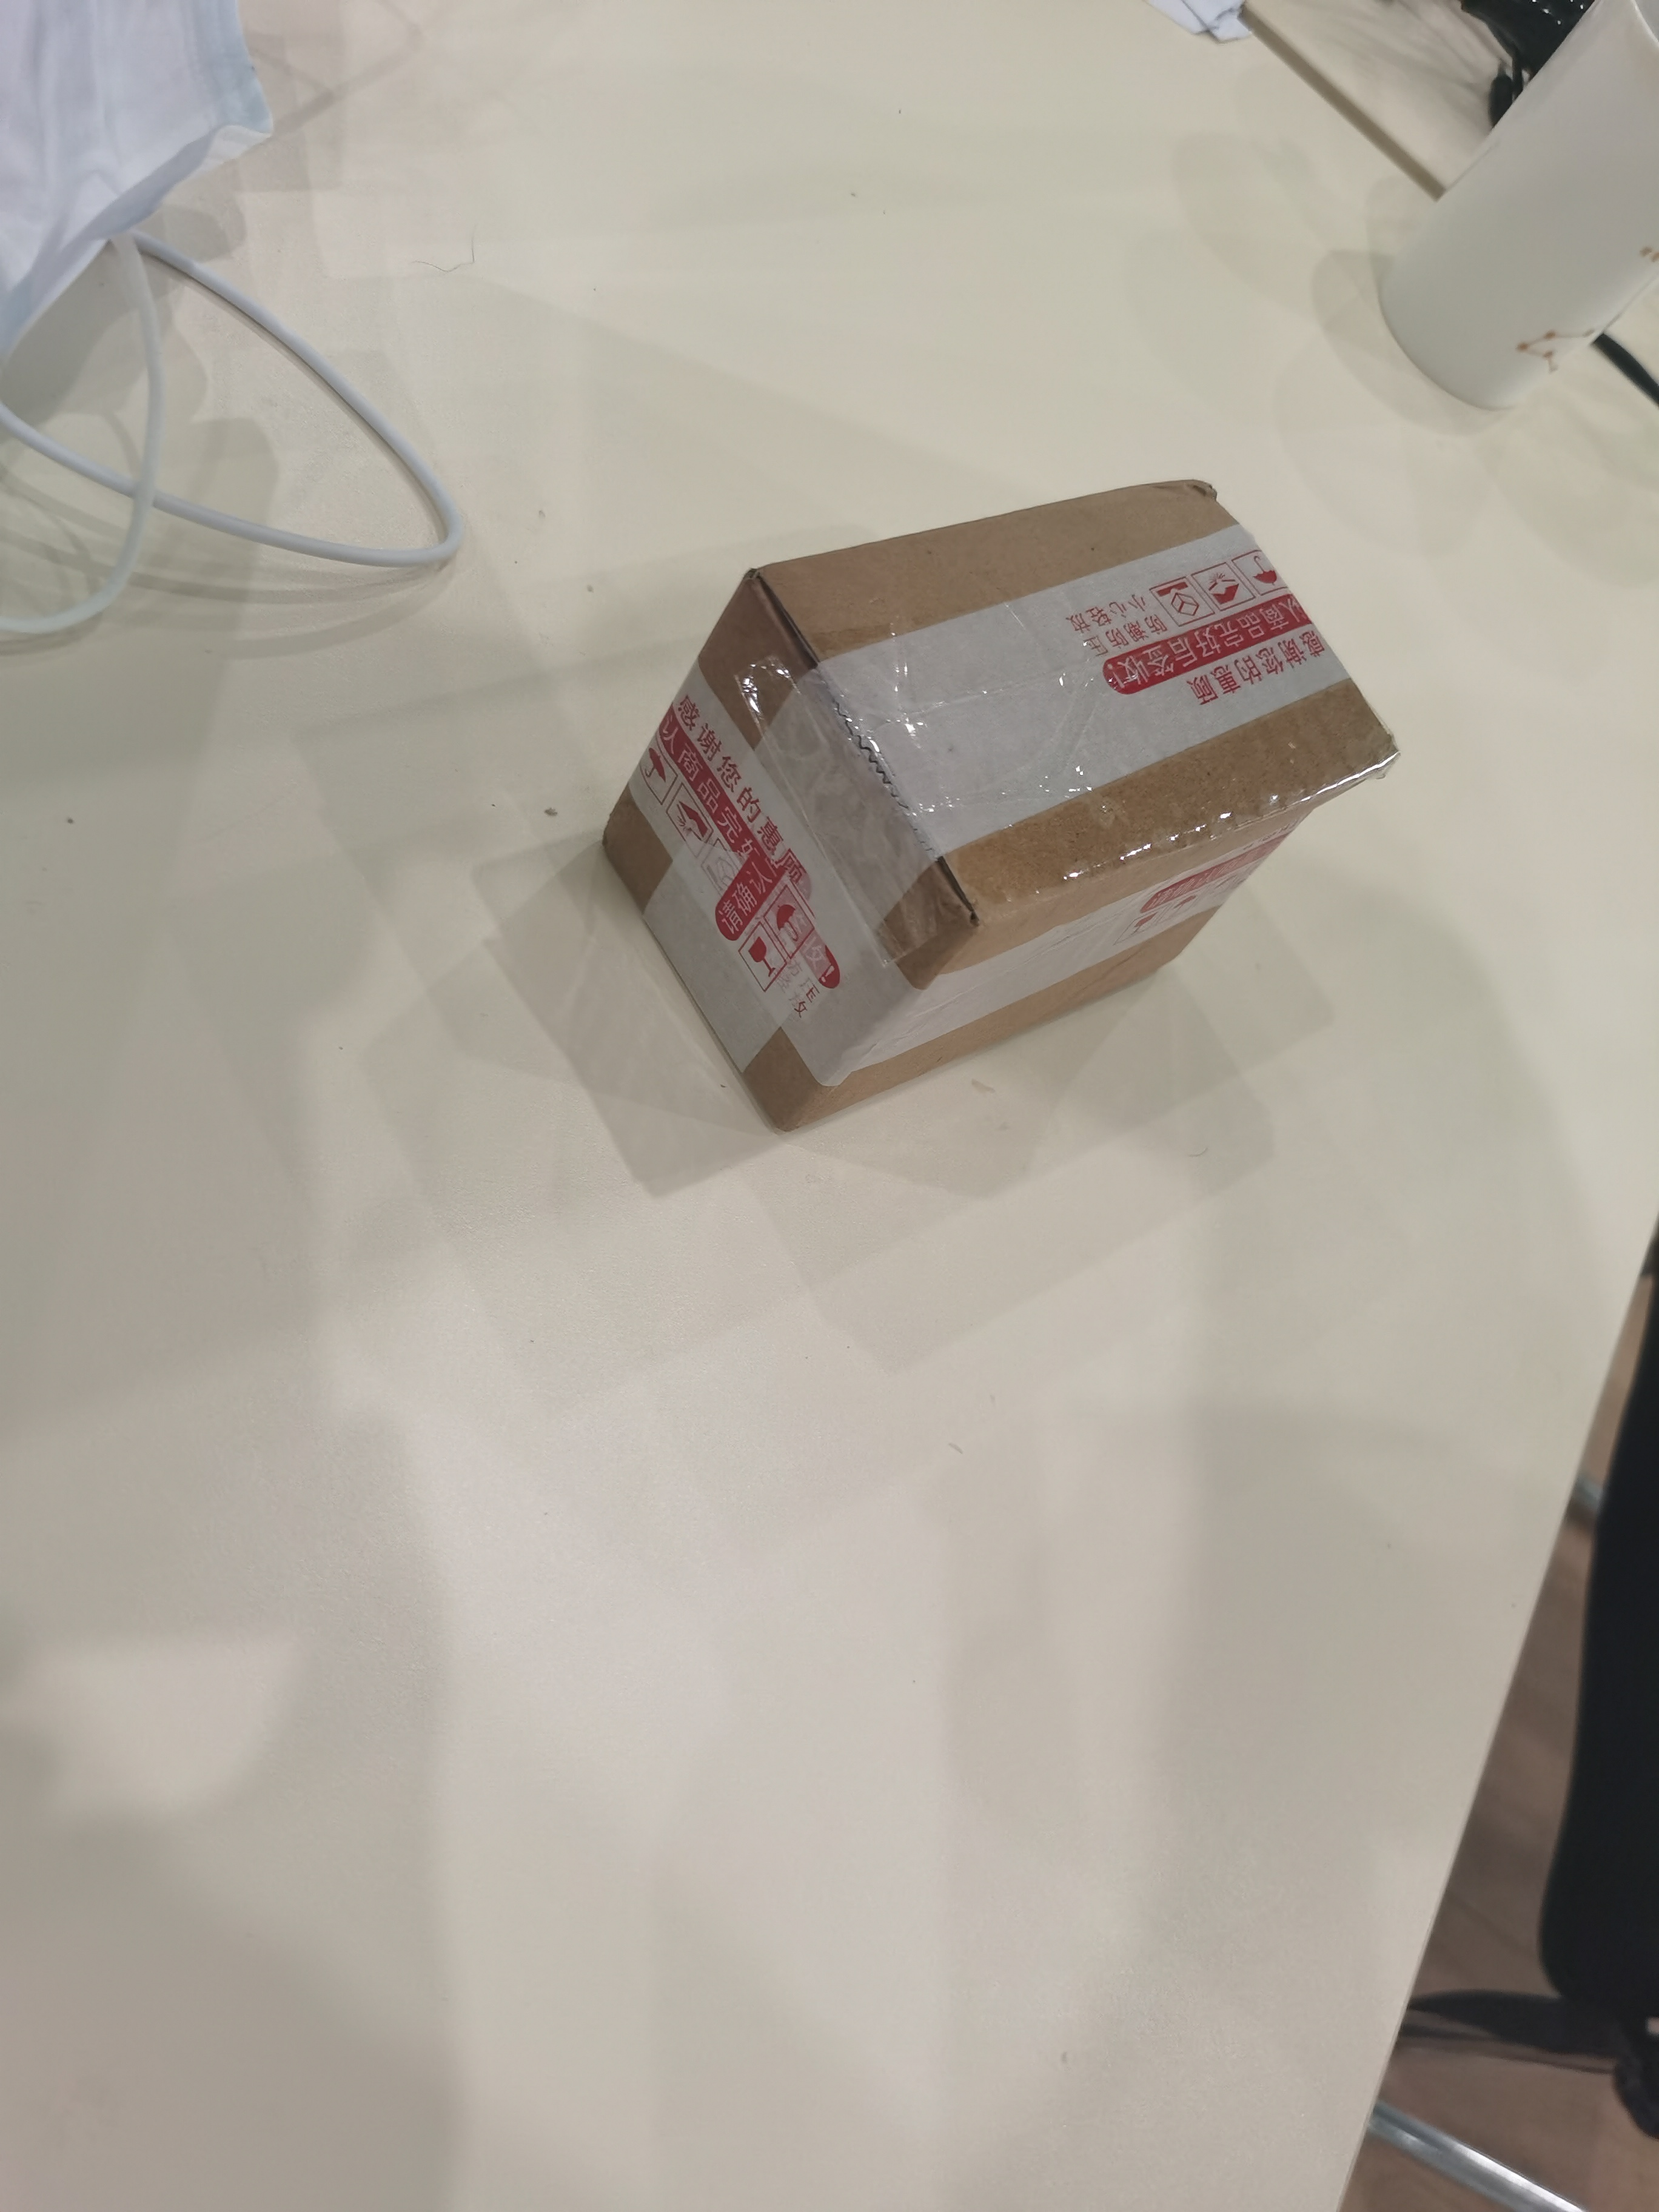box: (603, 469, 1398, 1204)
